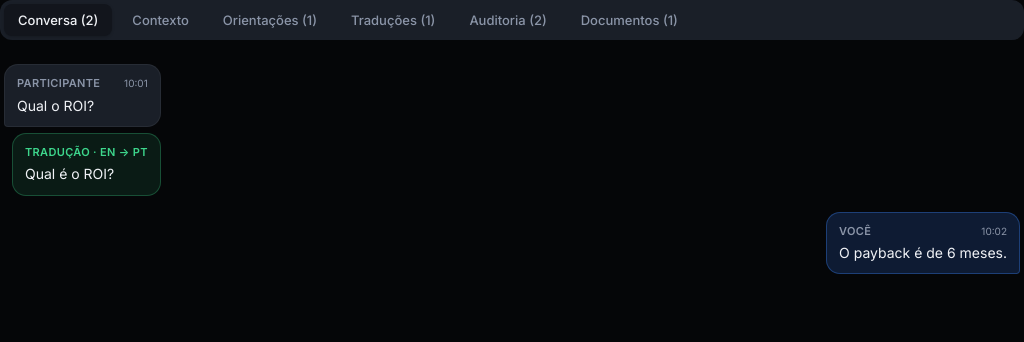
Scenario: SessionDetailTabs › switches to context tab with pre-meeting briefing
Click the tab with test id "session-tab-context": (161,20) [118,4,203,36]
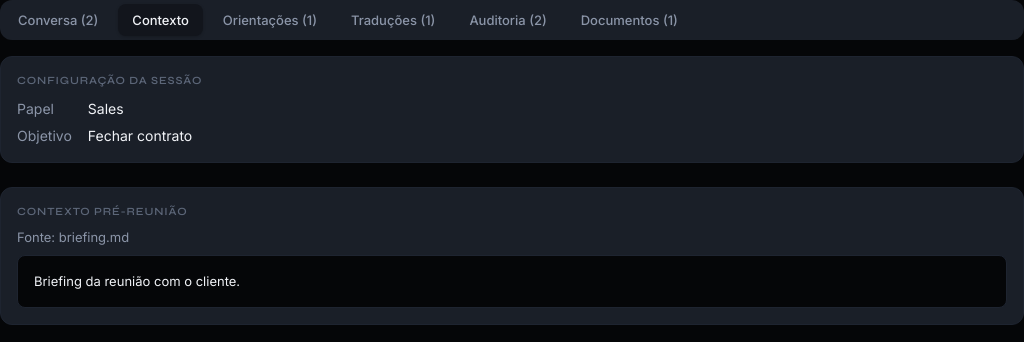
Expected: the element with test id "history-context-panel" is shown
Expected: the text with test id "history-pre-meeting-text" shows "Briefing da reunião", [34,273,240,289]
